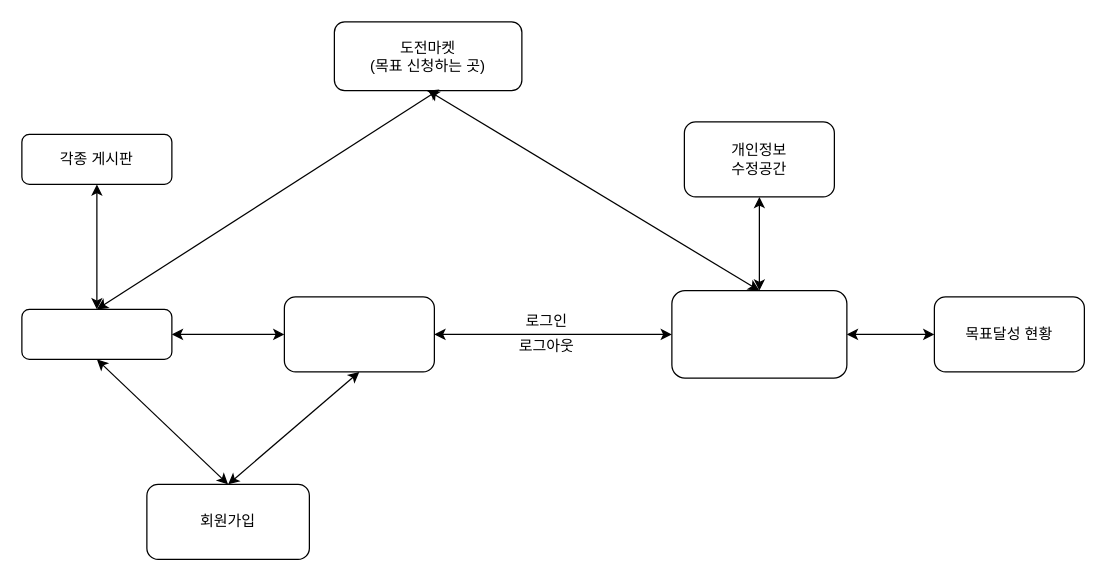
Image size: 1106x581. Some labels were removed from this diagram. Each missing label, with the centre of its shape:
개인공간 (인증 사진 글 업로드): the point at 759,333
로그인창 (따로 안만들어도 되고!!): the point at 358,334
메인화면: the point at 96,333
